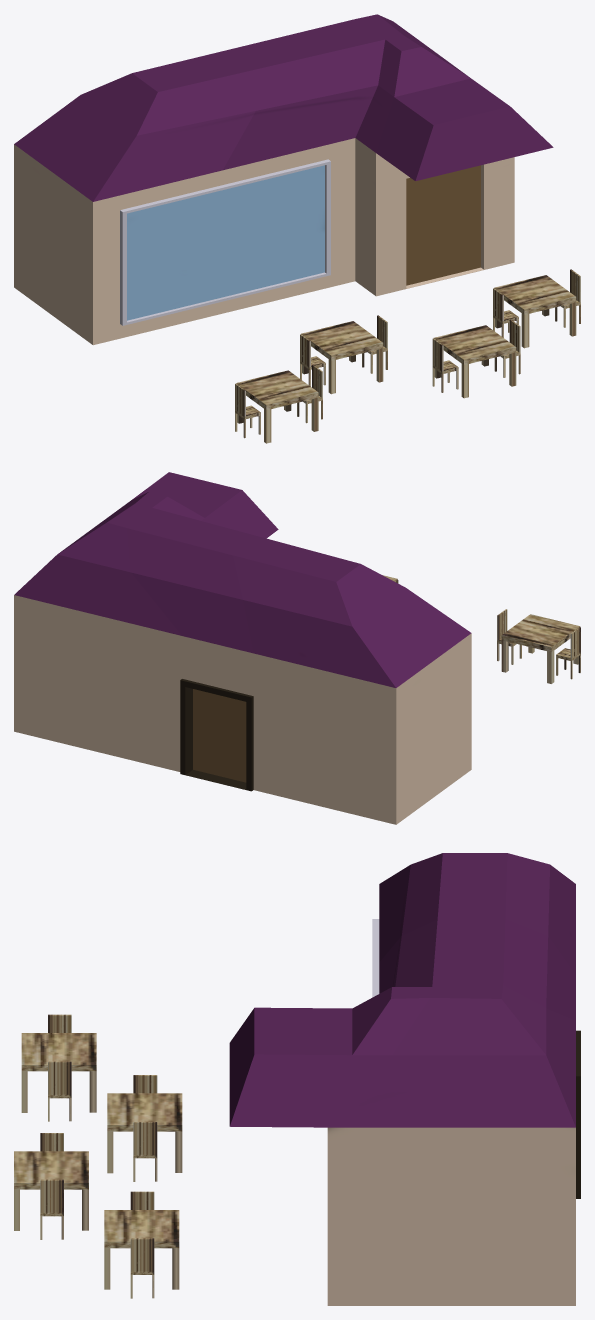
Rendered from restaurante.fbx.
The picture shows the model from 3 angles, top to bottom: view 1: azimuth 30°, elevation 25°; view 2: azimuth 150°, elevation 25°; view 3: azimuth 270°, elevation 25°; orthographic projection. The views are drawn at different scales.
Parts seen in each view (by area): view 1: restaurante; view 2: restaurante; view 3: restaurante.
Part boxes in pixels (x1,y1,x2,y2): restaurante: [14, 14, 580, 443]; restaurante: [14, 472, 580, 824]; restaurante: [14, 853, 580, 1305].
Size of the model in its own units: 16.74 by 8.55 by 16.47.
